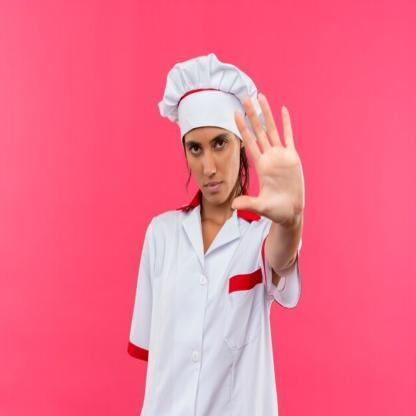stop: (230, 91, 307, 223)
